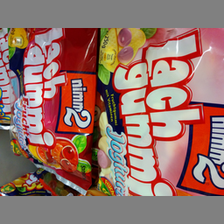candy: (100, 29, 223, 195), (8, 28, 97, 194)
